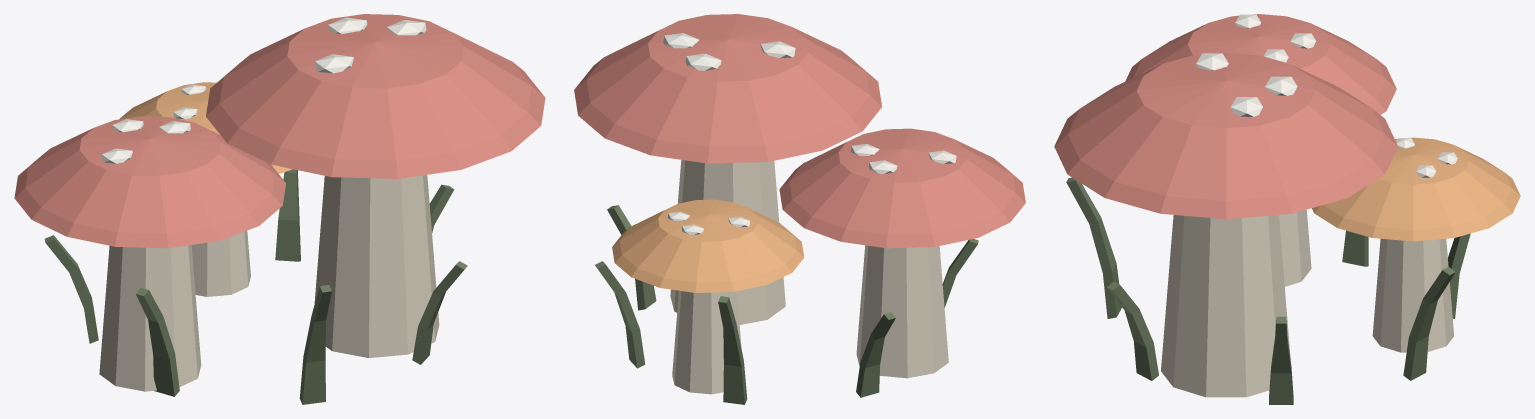
File: mushroom-small.glb
The picture shows the model from 3 angles, left to right: view 1: azimuth 30°, elevation 25°; view 2: azimuth 150°, elevation 25°; view 3: azimuth 270°, elevation 25°; orthographic projection. The views are drawn at different scales.
Visible parts, largest first — view 1: mushroom-small; view 2: mushroom-small; view 3: mushroom-small.
Part boxes in pixels (<box>): mushroom-small: <box>14,14,545,404</box>; mushroom-small: <box>574,14,1025,404</box>; mushroom-small: <box>1054,14,1520,404</box>.
Bounding box in the file's own units: 1 × 0.5871 × 0.8475.
